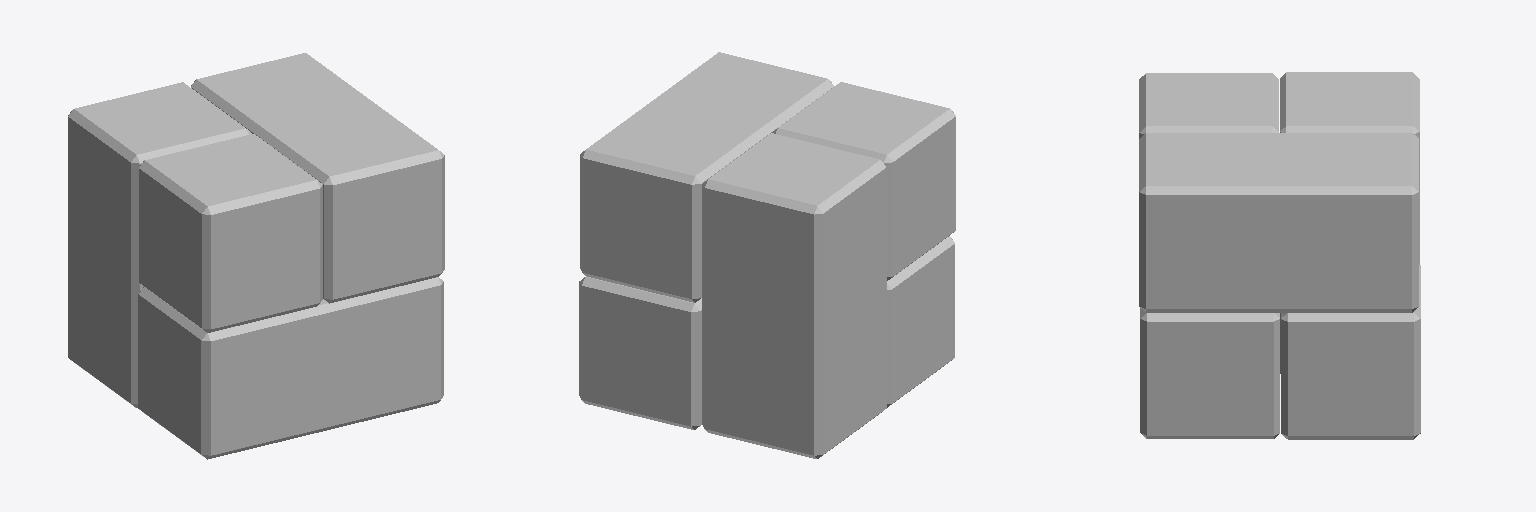
Rendered from cub.obj.
3 views of the same model, side by side, from view 1: azimuth 30°, elevation 25°; view 2: azimuth 150°, elevation 25°; view 3: azimuth 270°, elevation 25° (orthographic).
Visible parts, largest first — view 1: Cube.001; view 2: Cube.001; view 3: Cube.001.
Part boxes in pixels (x1,y1,x2,y2): Cube.001: (68, 53, 444, 459); Cube.001: (579, 52, 955, 458); Cube.001: (1139, 72, 1420, 439).
Size of the model in its own units: 1.99 by 1.98 by 1.99.